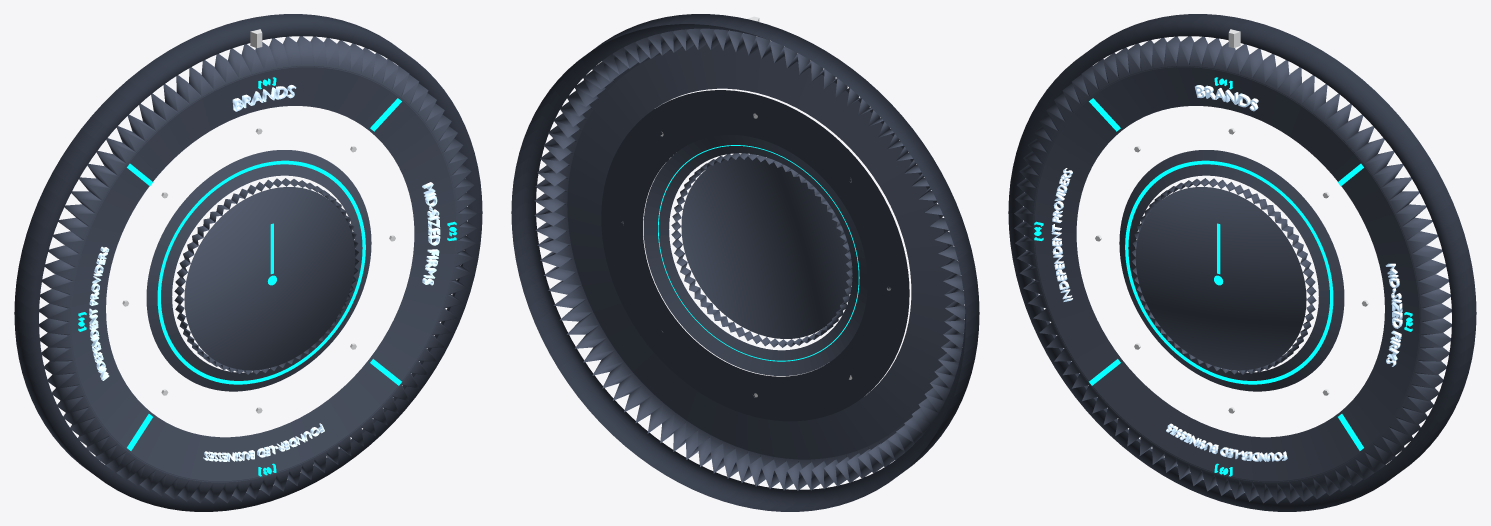
The model's file is mechanical_dial.glb.
3 views of the same model, side by side, from view 1: azimuth 30°, elevation 25°; view 2: azimuth 150°, elevation 25°; view 3: azimuth 330°, elevation 25° (orthographic).
Parts seen in each view (by area): view 1: Rotor_Index_Ring, Rotor_Knurled_Bezel, Rotor_Center_Knob, Dial_Housing_Base, Rotor_Aperture_Collar, Rotor_Accent_Ring, Rotor_Text_3, Rotor_Text_2, Rotor_Text_1, Rotor_Ticks_CyanMajor, Rotor_Text_0; view 2: Rotor_Index_Ring, Rotor_Recessed_Trench, Dial_Housing_Base, Rotor_Knurled_Bezel, Rotor_Center_Knob, Rotor_Aperture_Collar, Rotor_Accent_Ring; view 3: Rotor_Index_Ring, Rotor_Knurled_Bezel, Rotor_Center_Knob, Dial_Housing_Base, Rotor_Aperture_Collar, Rotor_Accent_Ring, Rotor_Text_3, Rotor_Text_2, Rotor_Text_1, Rotor_Ticks_CyanMajor, Rotor_Text_0.
Boxes of the visible parts, left/top/right/bottom form: Rotor_Index_Ring: left=70, top=66, right=457, bottom=482; Rotor_Knurled_Bezel: left=39, top=36, right=476, bottom=503; Rotor_Center_Knob: left=174, top=178, right=358, bottom=374; Dial_Housing_Base: left=14, top=14, right=482, bottom=511; Rotor_Aperture_Collar: left=146, top=150, right=371, bottom=391; Rotor_Accent_Ring: left=157, top=160, right=365, bottom=384; Rotor_Text_3: left=89, top=246, right=109, bottom=380; Rotor_Text_2: left=203, top=423, right=324, bottom=461; Rotor_Text_1: left=422, top=182, right=440, bottom=285; Rotor_Ticks_CyanMajor: left=127, top=98, right=401, bottom=450; Rotor_Text_0: left=232, top=85, right=296, bottom=111; Rotor_Index_Ring: left=567, top=44, right=953, bottom=459; Rotor_Recessed_Trench: left=601, top=90, right=909, bottom=421; Dial_Housing_Base: left=511, top=14, right=979, bottom=511; Rotor_Knurled_Bezel: left=534, top=28, right=965, bottom=490; Rotor_Center_Knob: left=671, top=153, right=852, bottom=347; Rotor_Aperture_Collar: left=643, top=135, right=867, bottom=375; Rotor_Accent_Ring: left=658, top=145, right=859, bottom=361; Rotor_Index_Ring: left=1033, top=66, right=1420, bottom=482; Rotor_Knurled_Bezel: left=1014, top=36, right=1451, bottom=503; Rotor_Center_Knob: left=1132, top=178, right=1316, bottom=374; Dial_Housing_Base: left=1008, top=14, right=1476, bottom=511; Rotor_Aperture_Collar: left=1119, top=150, right=1344, bottom=391; Rotor_Accent_Ring: left=1125, top=160, right=1333, bottom=384; Rotor_Text_3: left=1051, top=168, right=1072, bottom=301; Rotor_Text_2: left=1166, top=423, right=1287, bottom=461; Rotor_Text_1: left=1385, top=263, right=1402, bottom=366; Rotor_Ticks_CyanMajor: left=1089, top=98, right=1363, bottom=450; Rotor_Text_0: left=1195, top=85, right=1258, bottom=111.
Size of the model in its own units: 4.36 by 4.36 by 0.513.
